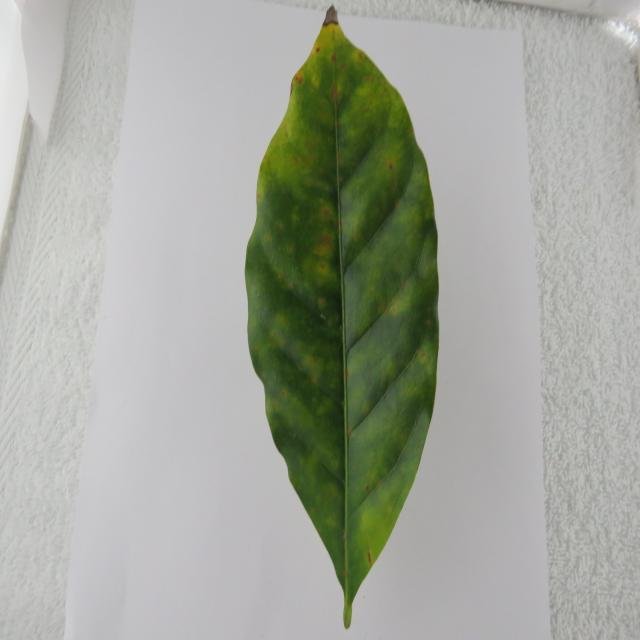DeficienciaNutricional-Manganeso: (245, 8, 439, 628)
